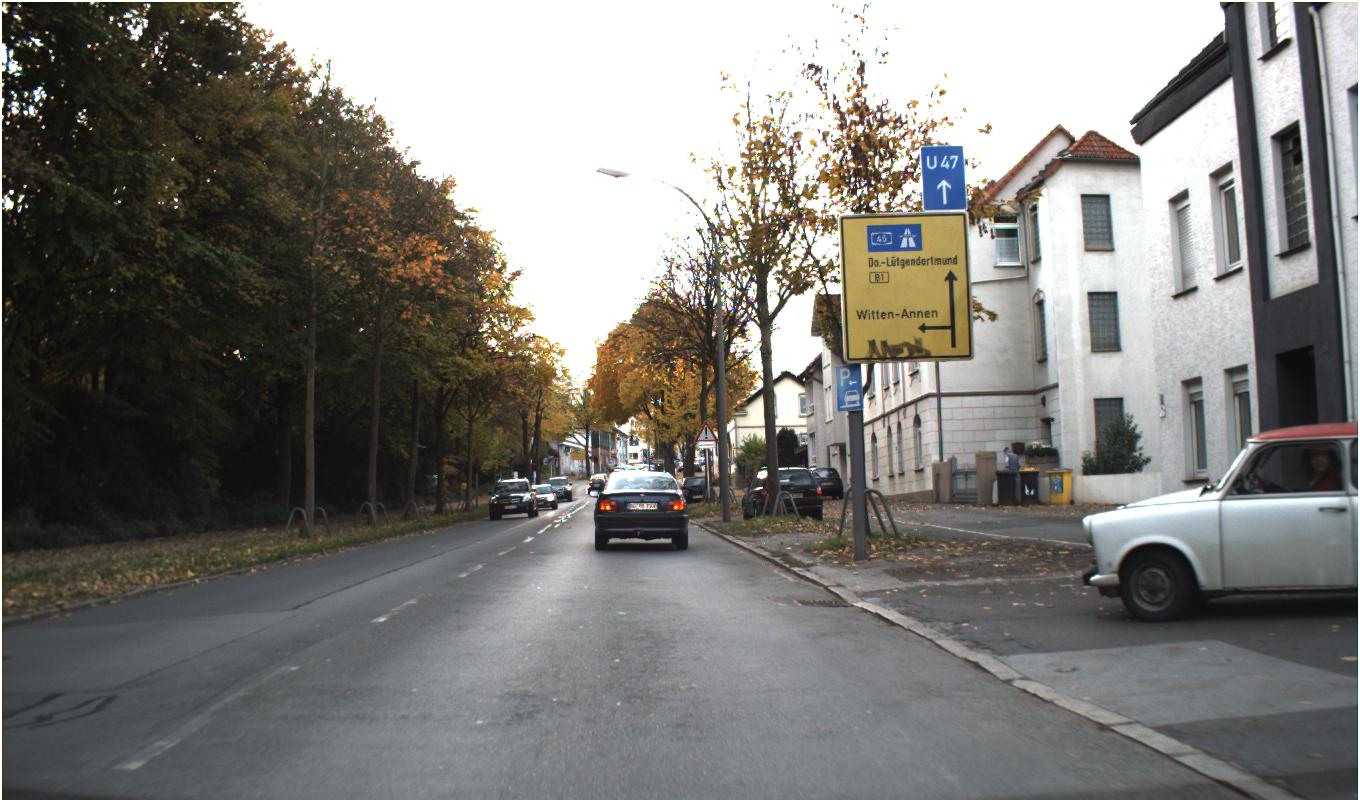danger: (693, 419, 719, 442)
